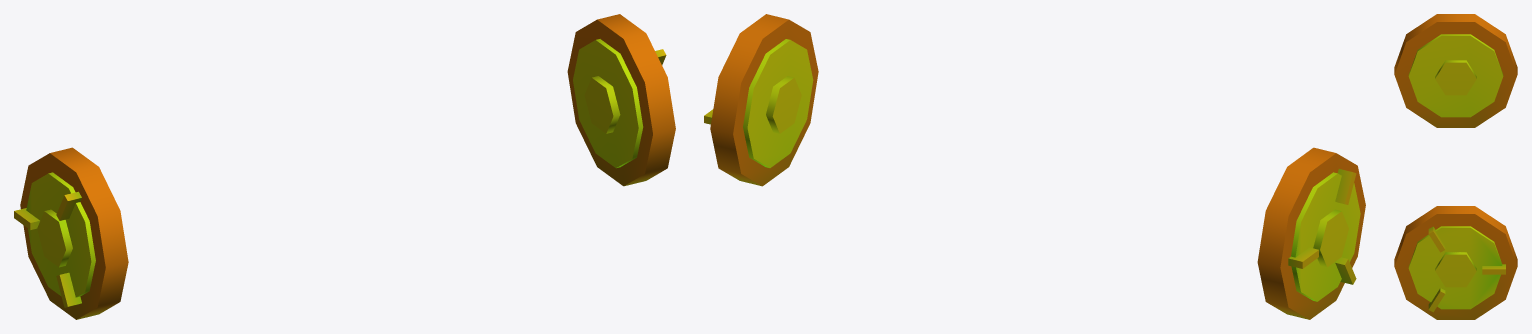
File: RoboTank_wheel1_LOD1.glb
3 views of the same model, side by side, from view 1: azimuth 30°, elevation 25°; view 2: azimuth 150°, elevation 25°; view 3: azimuth 270°, elevation 25° (orthographic). The views are drawn at different scales.
Parts seen in each view (by area): view 1: RoboTank_wheel1_LOD1; view 2: RoboTank_wheel1_LOD1; view 3: RoboTank_wheel1_LOD1.
Part boxes in pixels (x1,y1,x2,y2): RoboTank_wheel1_LOD1: [14, 14, 675, 319]; RoboTank_wheel1_LOD1: [704, 14, 1365, 319]; RoboTank_wheel1_LOD1: [1394, 14, 1517, 319].
Size of the model in its own units: 1.68 by 0.3956 by 0.416.
